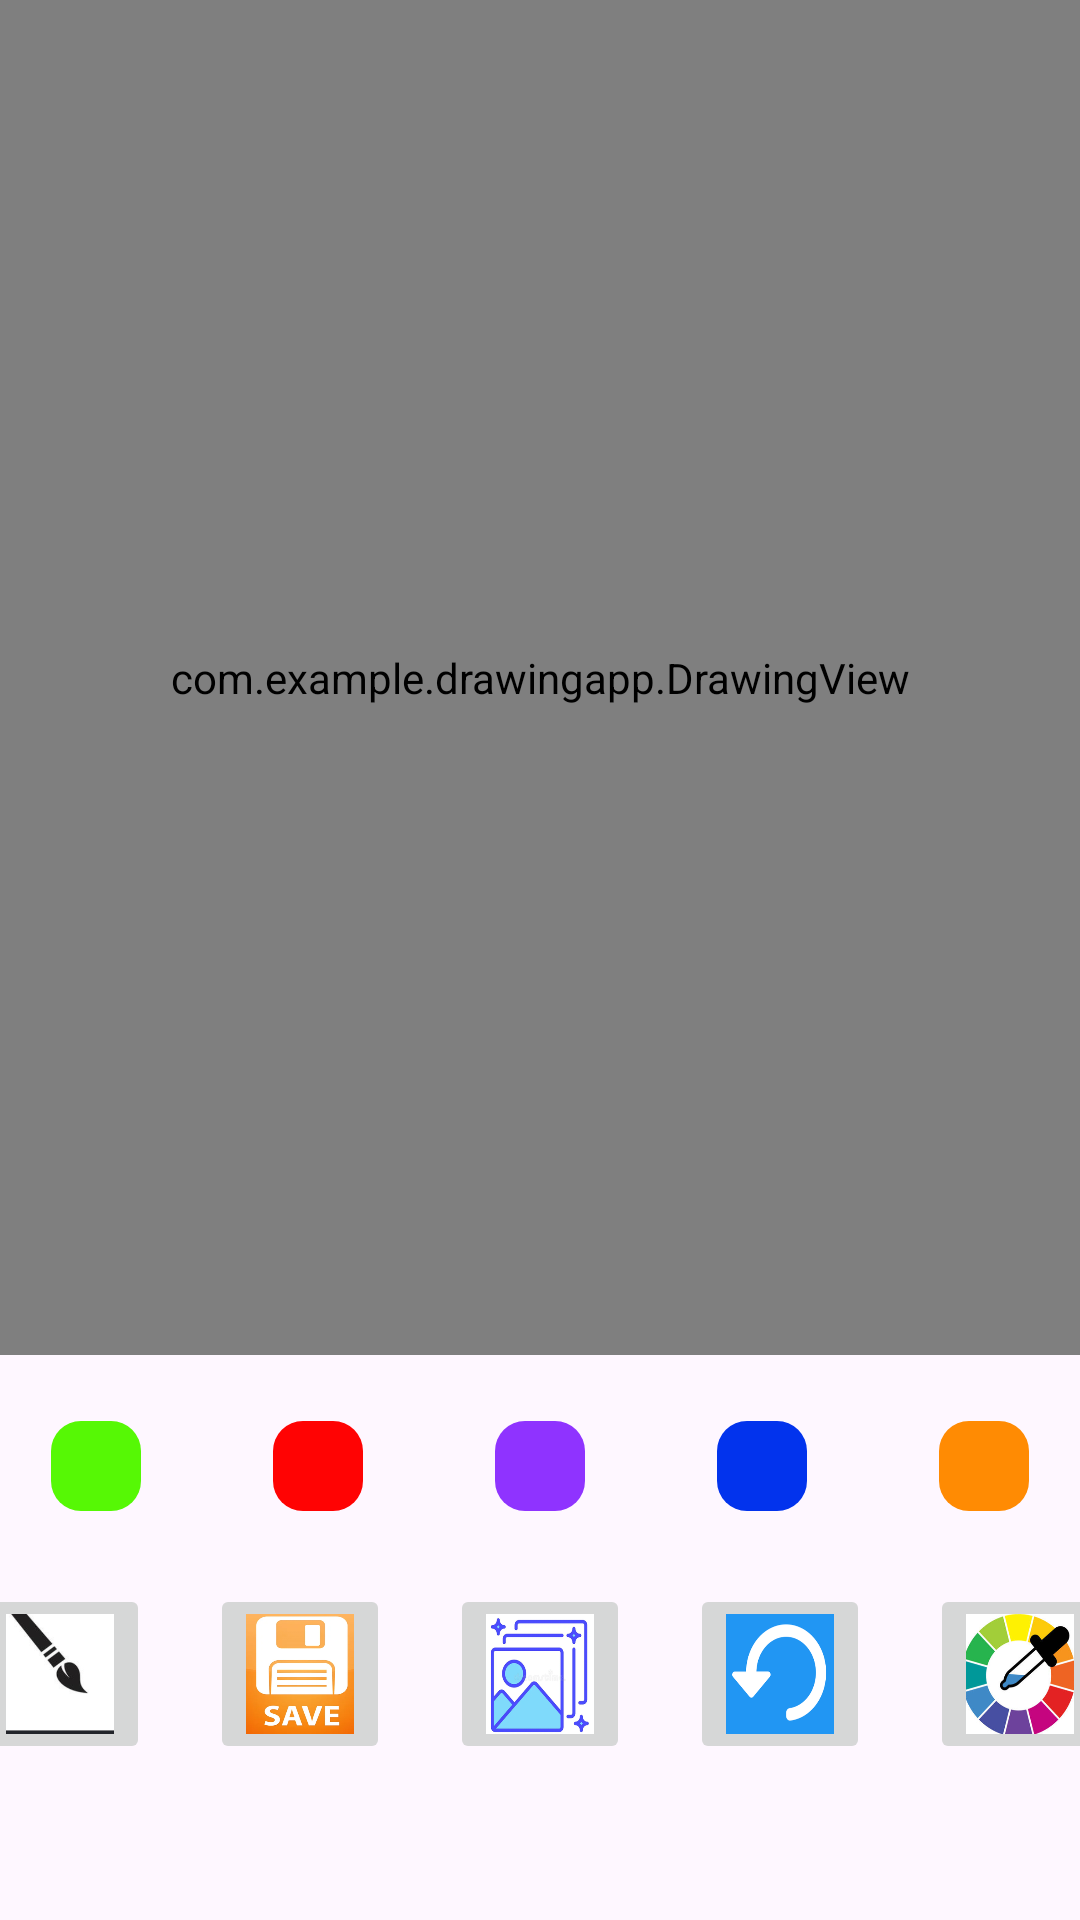

Point at icon controls on the screen. Image size 1080 x 1920, points as point (x, y).
Open gallery: point (540, 1674)
Undo: point (780, 1674)
